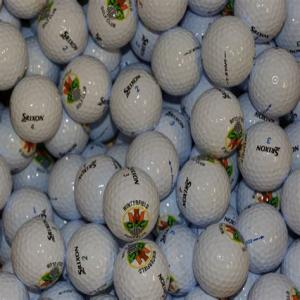Golf: (122, 130, 179, 203), (102, 171, 159, 242), (10, 218, 66, 290), (190, 88, 244, 160), (194, 224, 247, 297), (237, 120, 294, 186), (203, 15, 254, 88), (110, 69, 165, 135), (250, 47, 300, 119), (67, 226, 119, 294), (152, 26, 203, 95), (36, 0, 90, 65), (112, 241, 171, 300), (74, 156, 123, 227), (178, 161, 232, 225), (236, 205, 286, 274), (60, 56, 112, 122), (12, 75, 63, 142), (84, 0, 139, 51), (47, 155, 84, 218), (0, 25, 29, 93), (282, 172, 300, 241)
